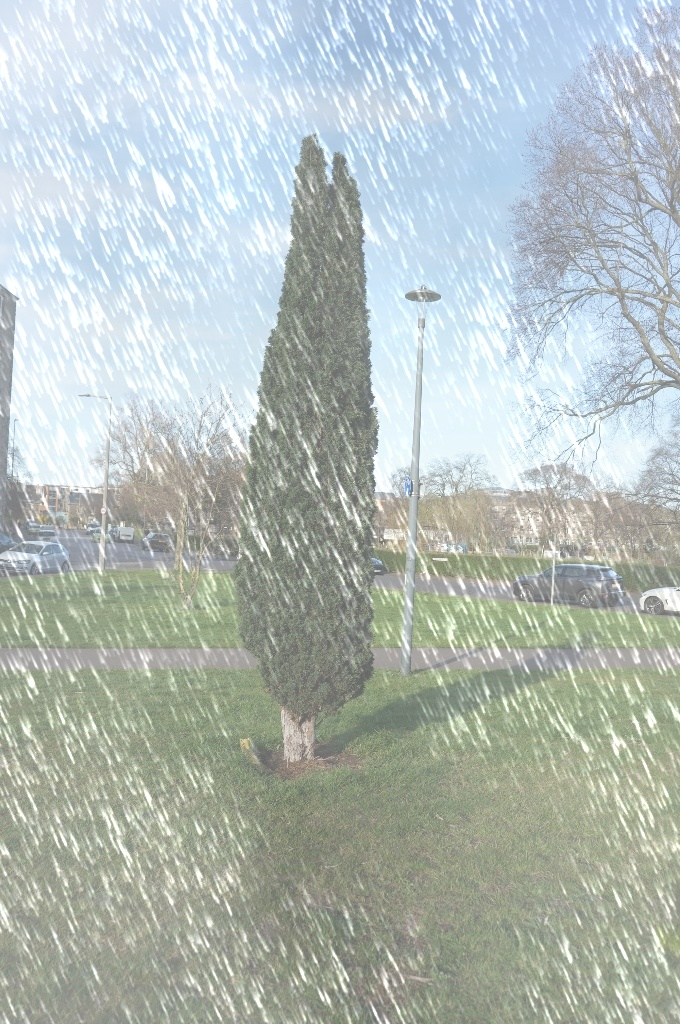Tree: (185, 118, 449, 797), (475, 4, 680, 551), (88, 375, 248, 592)
